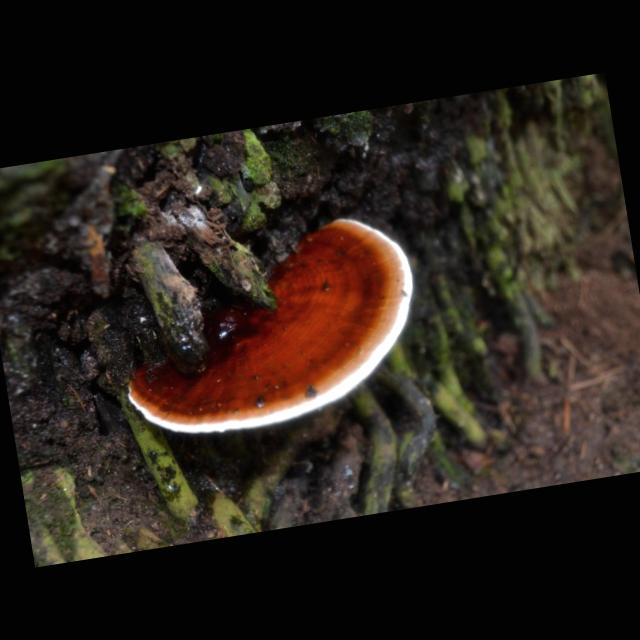ganoderma: (106, 208, 435, 452)
